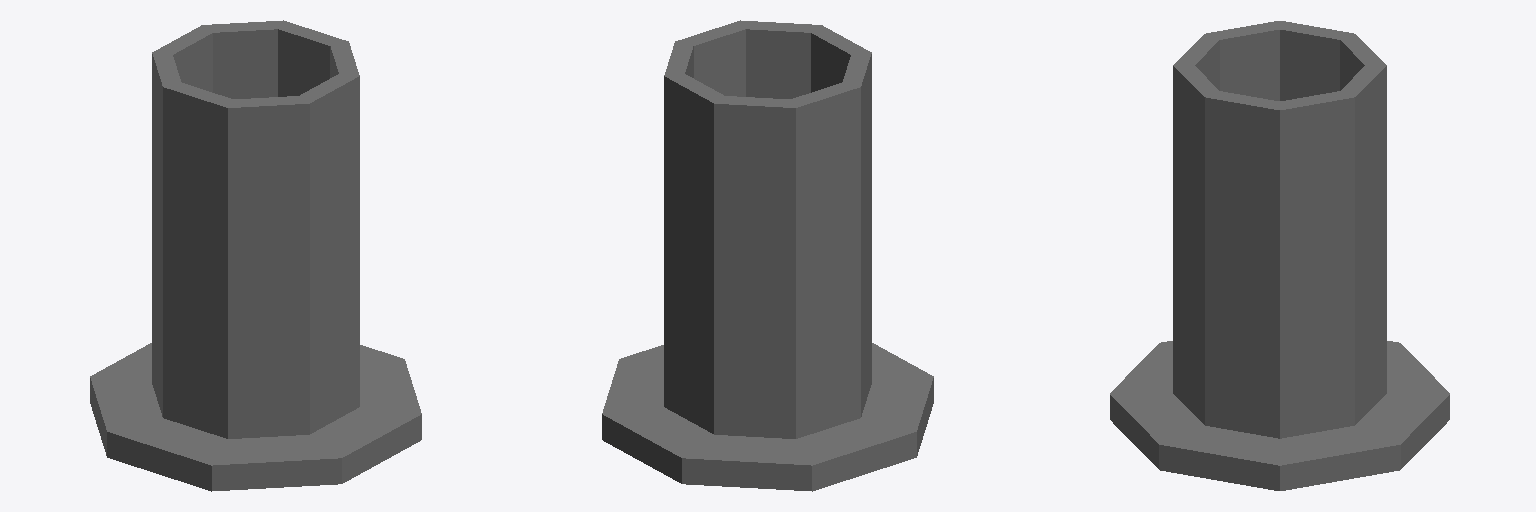
The robot description file, URDF, robot "parttoolgen_screwdriver_insert_wide_guide_socket":
<?xml version="1.0"?>
<robot name="parttoolgen_screwdriver_insert_wide_guide_socket">
  <link name="wide_guide_socket">
    <!-- The visual guide sleeve has a 24 mm opening. -->
    <visual>
      <material name="guide_socket_gray">
        <color rgba="0.50 0.50 0.50 1.0"/>
      </material>
      <origin xyz="0 0 0"/>
      <geometry>
        <mesh filename="wide_guide_socket_048x055.obj" scale="1 1 1"/>
      </geometry>
    </visual>
    <visual>
      <material name="guide_socket_dark_visible_bottom">
        <color rgba="0.015 0.015 0.015 1.0"/>
      </material>
      <origin xyz="0 0 0.001" rpy="0 0 0"/>
      <geometry>
        <cylinder radius="0.0105" length="0.001"/>
      </geometry>
    </visual>

    <!-- Collision walls extend outward from the visual opening to reduce tunneling. -->
    <collision>
      <origin xyz="0.016 0 0.0275"/>
      <geometry>
        <box size="0.008 0.040 0.055"/>
      </geometry>
    </collision>
    <collision>
      <origin xyz="-0.016 0 0.0275"/>
      <geometry>
        <box size="0.008 0.040 0.055"/>
      </geometry>
    </collision>
    <collision>
      <origin xyz="0 0.016 0.0275"/>
      <geometry>
        <box size="0.040 0.008 0.055"/>
      </geometry>
    </collision>
    <collision>
      <origin xyz="0 -0.016 0.0275"/>
      <geometry>
        <box size="0.040 0.008 0.055"/>
      </geometry>
    </collision>

    <inertial>
      <mass value="0.08"/>
      <inertia ixx="0.00003" ixy="0.0" ixz="0.0" iyy="0.00003" iyz="0.0" izz="0.00003"/>
    </inertial>
  </link>
</robot>

--- What the picture shows (computed from the rendered views, not written in the file) ---
Views: 3 orthographic renders of the robot side by side, from view 1: azimuth 30°, elevation 25°; view 2: azimuth 150°, elevation 25°; view 3: azimuth 270°, elevation 25°.
Model parttoolgen_screwdriver_insert_wide_guide_socket with 1 links and 0 joints (none), rooted at wide_guide_socket, posed every joint at zero.
Visible links, largest first — view 1: wide_guide_socket; view 2: wide_guide_socket; view 3: wide_guide_socket.
Link boxes in pixels (x1=…): wide_guide_socket: x1=90, y1=20, x2=421, y2=491; wide_guide_socket: x1=602, y1=20, x2=933, y2=491; wide_guide_socket: x1=1110, y1=21, x2=1449, y2=490.
Size in the robot's own frame: 0.048 by 0.048 by 0.055 metres.
Meshes: 1 distinct files referenced, 1 mesh visuals loaded (1 OBJ).
